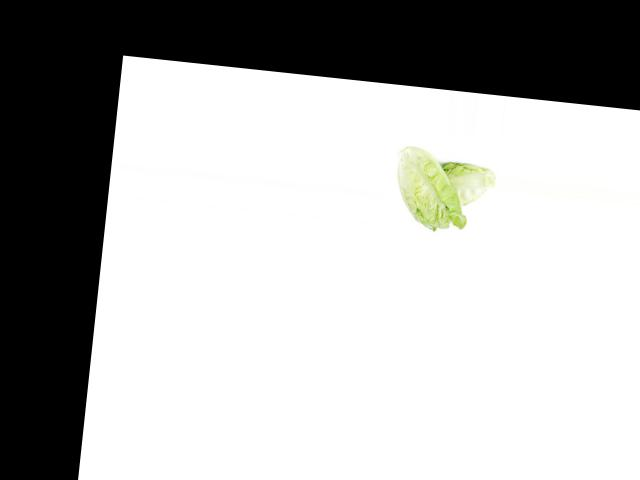lettuce: (436, 156, 499, 212)
